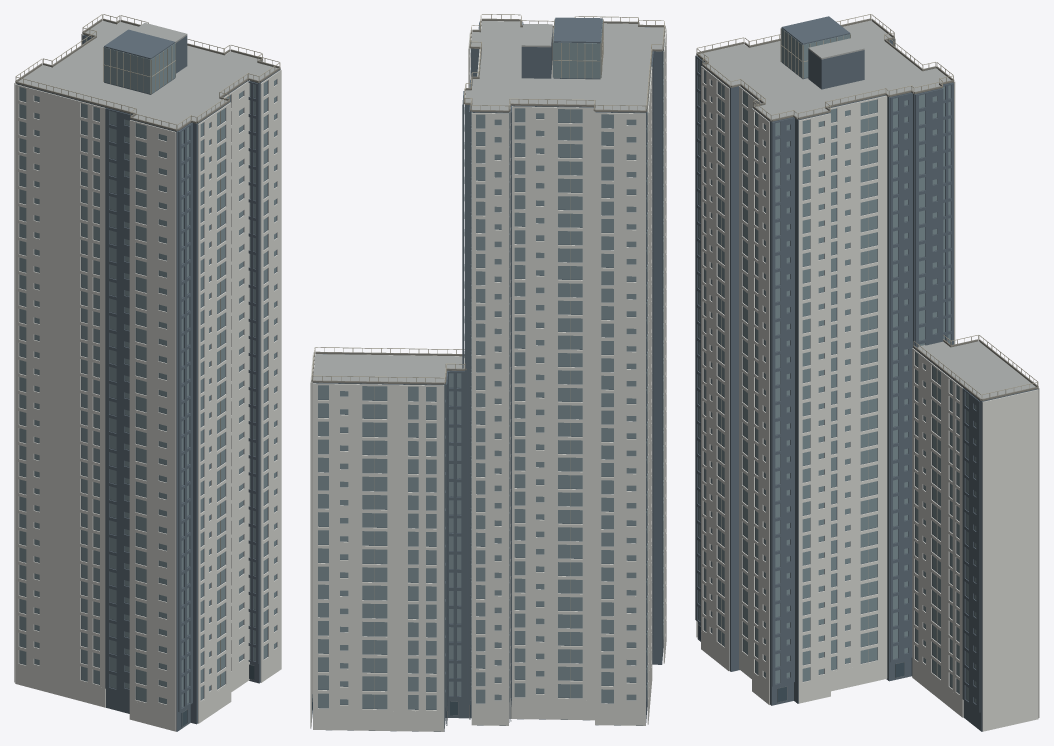
The model's file is bespoke-raemian-onebailey-120.glb.
3 renders of one model, left to right at view 1: azimuth 30°, elevation 25°; view 2: azimuth 150°, elevation 25°; view 3: azimuth 270°, elevation 25°, orthographic. The views are drawn at different scales.
Visible parts, largest first — view 1: 120_pale_bays_navy_shafts_5, 120_editable_massing, 120_pale_bays_navy_shafts_1, 120_glass_roof_crown_4, 120_pale_bays_navy_shafts_3, 120_glass_roof_crown_1; view 2: 120_pale_bays_navy_shafts_5, 120_pale_bays_navy_shafts_1, 120_editable_massing, 120_glass_roof_crown_4, 120_pale_bays_navy_shafts_3, 120_glass_roof_crown_1; view 3: 120_pale_bays_navy_shafts_5, 120_editable_massing, 120_pale_bays_navy_shafts_1, 120_glass_roof_crown_4, 120_pale_bays_navy_shafts_3, 120_glass_roof_crown_1.
Part boxes in pixels (x1,y1,x2,y2): 120_pale_bays_navy_shafts_5: (14, 22, 281, 731); 120_editable_massing: (16, 21, 280, 731); 120_pale_bays_navy_shafts_1: (19, 37, 276, 707); 120_glass_roof_crown_4: (18, 21, 277, 131); 120_pale_bays_navy_shafts_3: (15, 14, 280, 687); 120_glass_roof_crown_1: (15, 18, 280, 131); 120_pale_bays_navy_shafts_5: (310, 21, 666, 731); 120_pale_bays_navy_shafts_1: (318, 19, 664, 709); 120_editable_massing: (313, 17, 663, 731); 120_glass_roof_crown_4: (313, 21, 663, 384); 120_pale_bays_navy_shafts_3: (312, 14, 664, 708); 120_glass_roof_crown_1: (311, 18, 665, 384); 120_pale_bays_navy_shafts_5: (696, 20, 1039, 731); 120_editable_massing: (695, 16, 1037, 731); 120_pale_bays_navy_shafts_1: (698, 28, 976, 702); 120_glass_roof_crown_4: (699, 20, 1035, 400); 120_pale_bays_navy_shafts_3: (696, 14, 1038, 675); 120_glass_roof_crown_1: (696, 18, 1038, 400).
Bounding box in the file's own units: 48.65 × 110 × 55.09.
